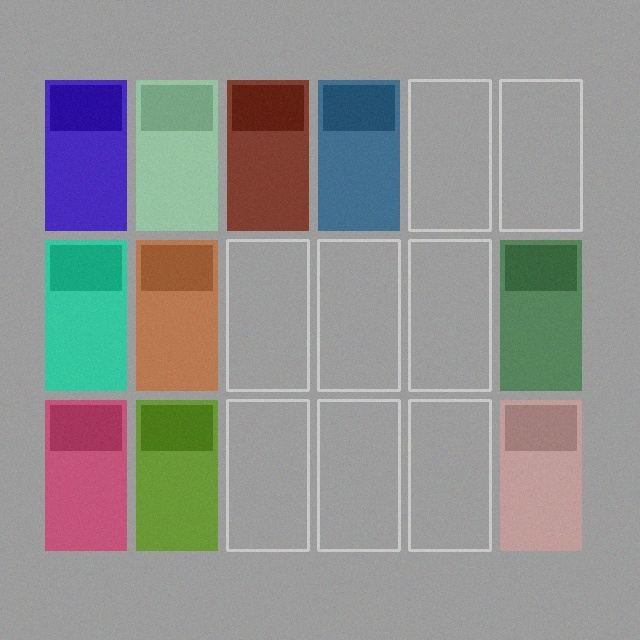space-empty: (409, 80, 490, 230), (500, 80, 581, 230), (227, 240, 308, 390), (318, 240, 399, 390), (409, 240, 490, 390), (227, 400, 308, 550), (318, 400, 399, 550), (409, 400, 490, 550)
space-occupied: (45, 80, 126, 230), (136, 80, 217, 230), (227, 80, 308, 230), (318, 80, 399, 230), (45, 240, 126, 390), (136, 240, 217, 390), (500, 240, 581, 390), (45, 400, 126, 550), (136, 400, 217, 550), (500, 400, 581, 550)
